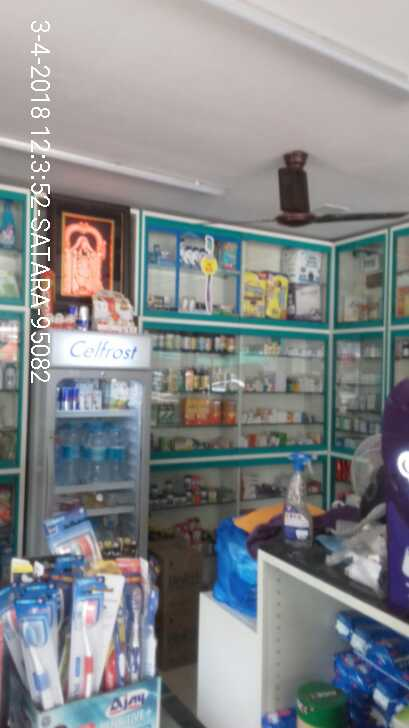oralcare: (16, 551, 156, 708)
